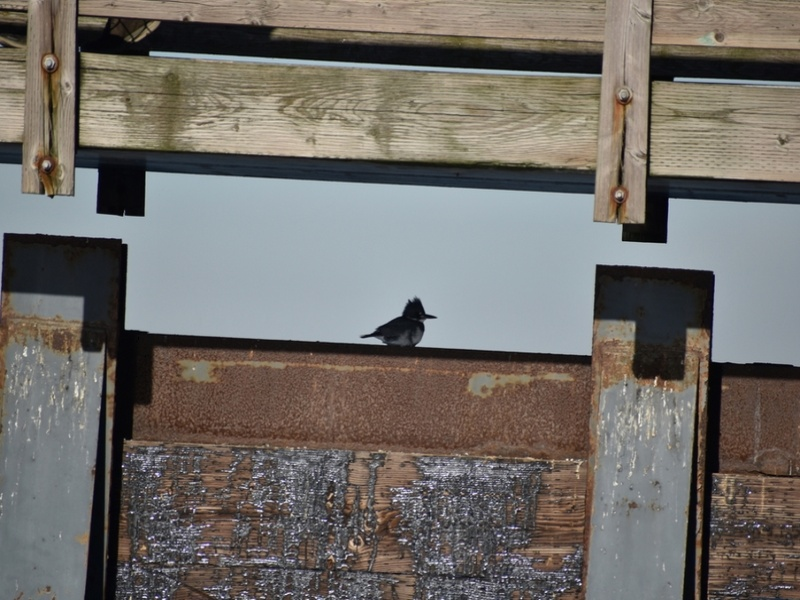kingfisher: (360, 294, 441, 346)
